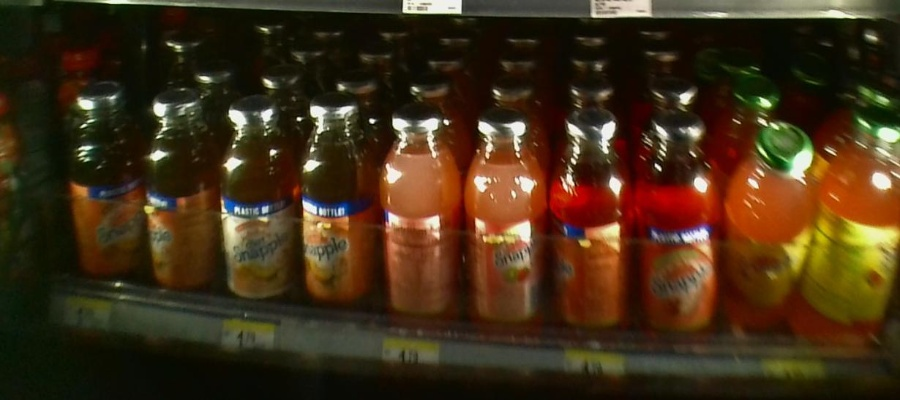bottle: (633, 102, 720, 351), (460, 102, 549, 343), (816, 107, 899, 363), (727, 118, 814, 357), (378, 101, 460, 336), (554, 111, 633, 353), (139, 75, 214, 298), (298, 96, 376, 310), (220, 85, 293, 307), (67, 73, 137, 287)
